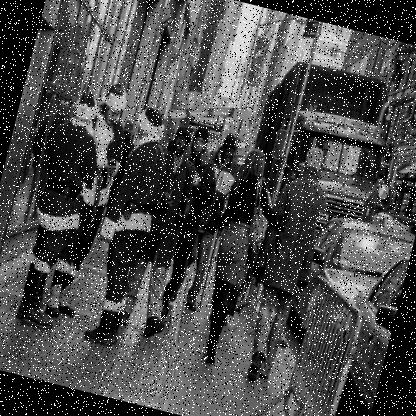Car: (286, 209, 415, 351), (317, 248, 409, 415)
